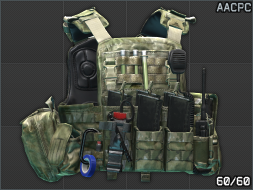Ars Arma CPC MOD.2 plate carrier: (0, 0, 253, 190)
